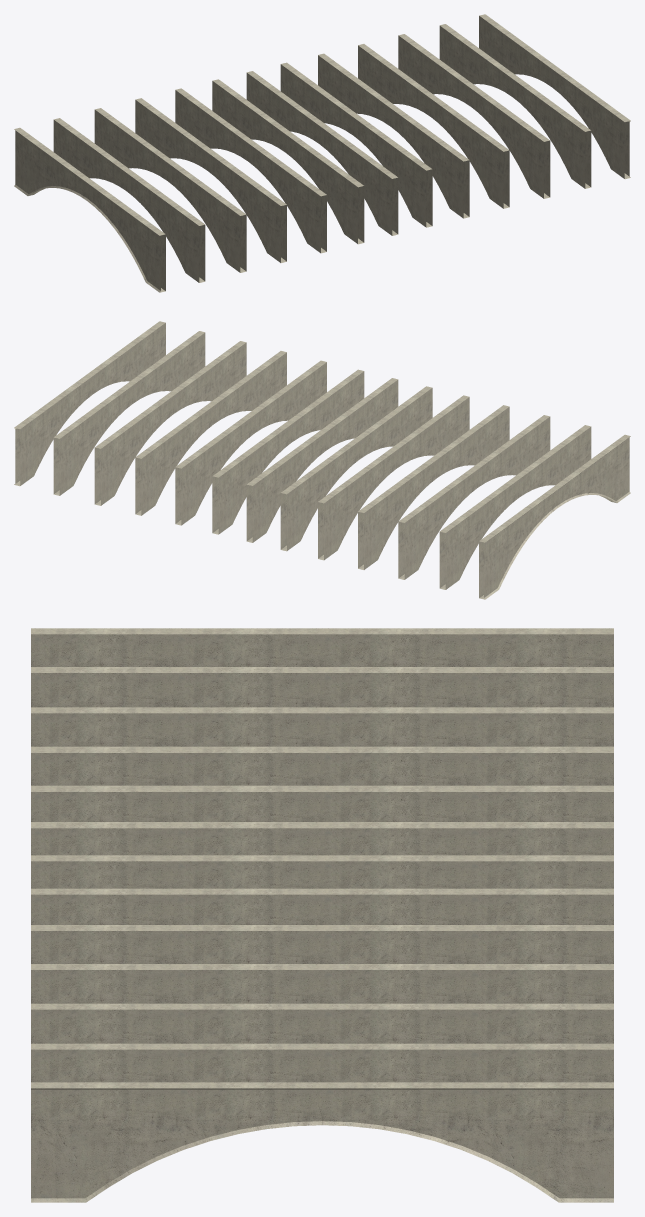
The model's file is BridgeBase6-6L.FBX.
3 renders of one model, top to bottom at view 1: azimuth 30°, elevation 25°; view 2: azimuth 150°, elevation 25°; view 3: azimuth 270°, elevation 25°, orthographic. The views are drawn at different scales.
Parts seen in each view (by area): view 1: BridgeBase6-6L; view 2: BridgeBase6-6L; view 3: BridgeBase6-6L.
Boxes of the visible parts, x1,y1,x2,y2 form: BridgeBase6-6L: (14,14,630,292); BridgeBase6-6L: (14,321,630,599); BridgeBase6-6L: (31,628,613,1202).
Size of the model in its own units: 38 by 4.4 by 20.34.
